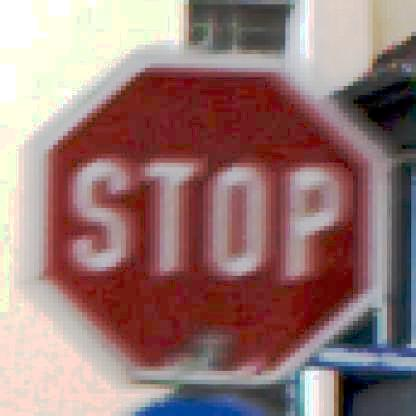Stop Sign: (24, 46, 398, 379)
